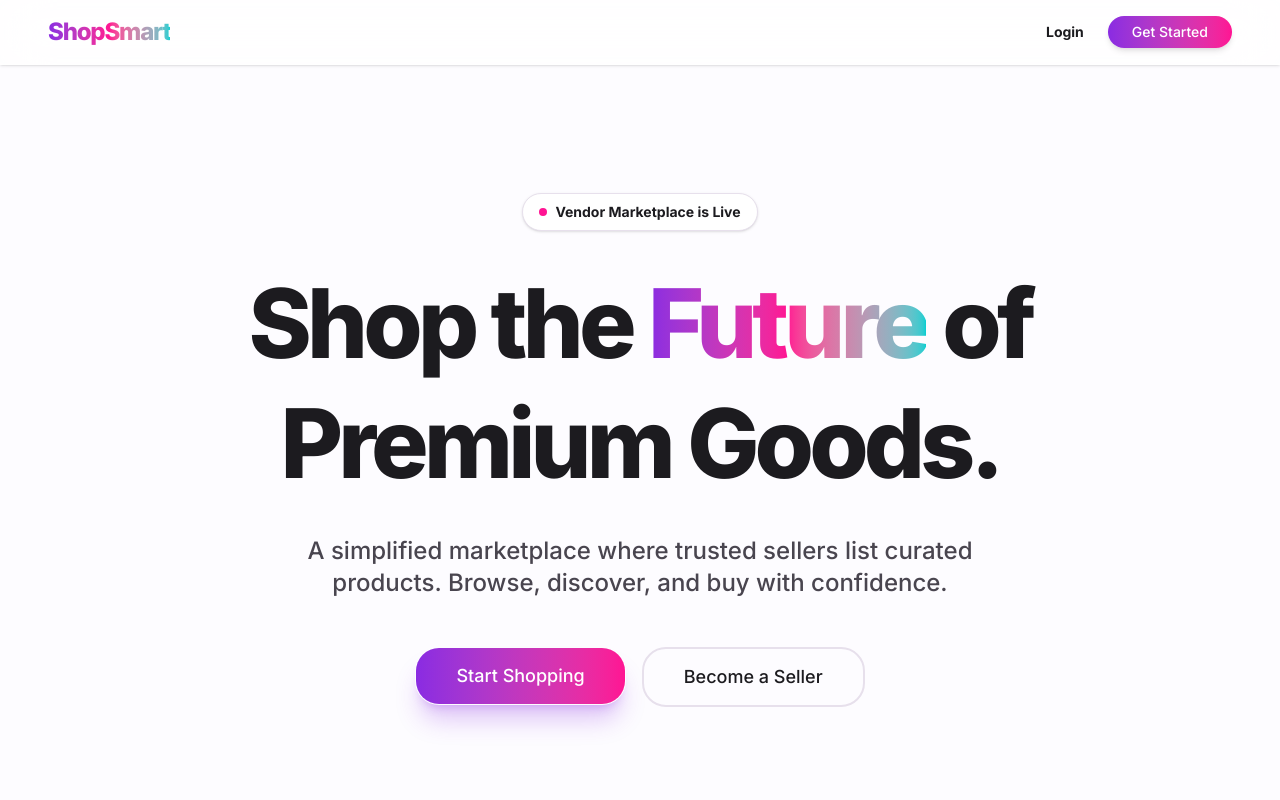
Test: Authentication E2E Flow › Loads the Home screen and navigates to Login via button
Click the link "Login" at [1065, 32], box x1=1046 y1=22 x2=1084 y2=42
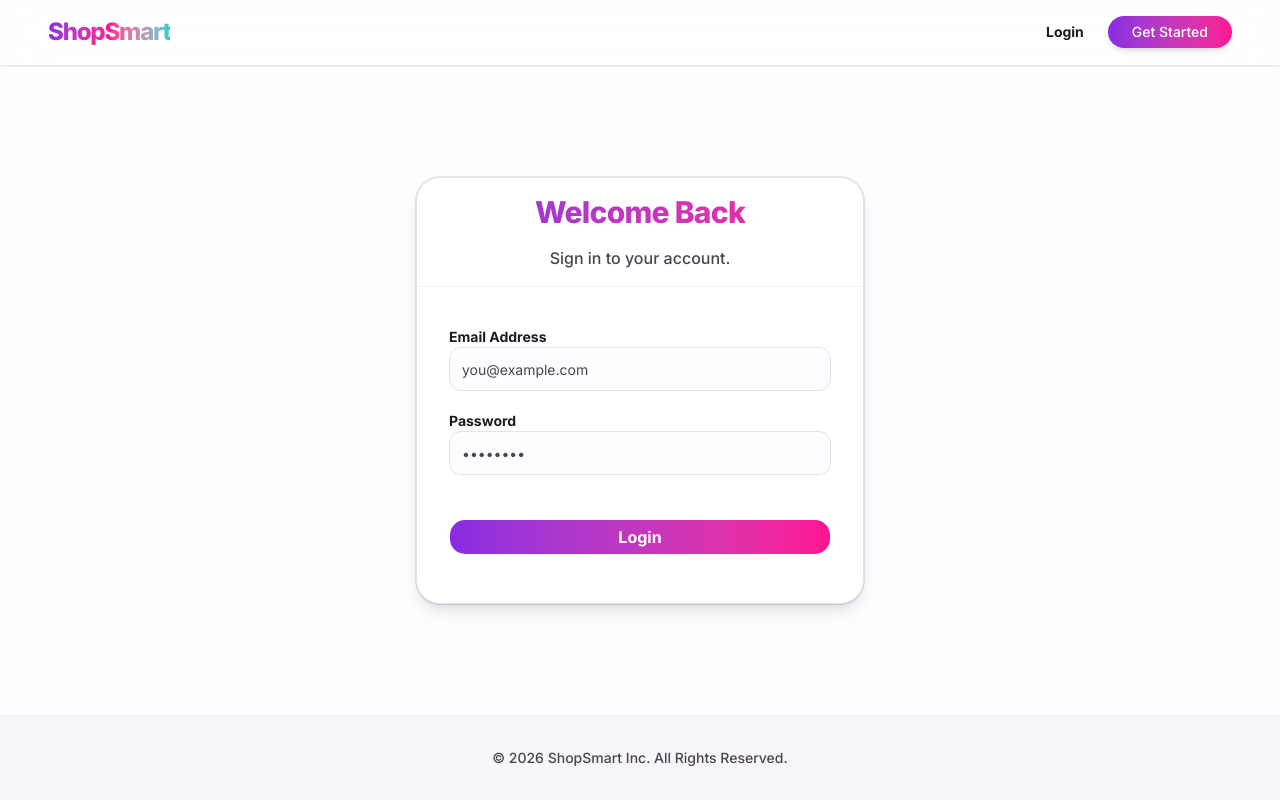
Expected: the text "Welcome Back" is shown, x1=433 y1=194 x2=847 y2=230
